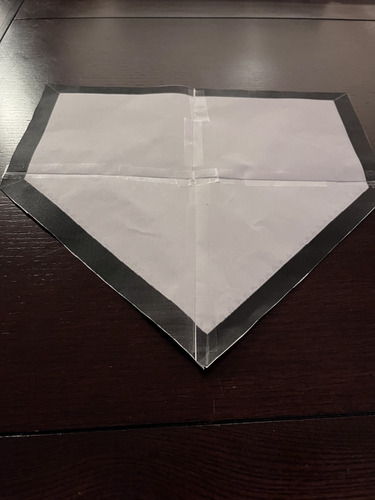homeplate: (0, 84, 373, 368)
